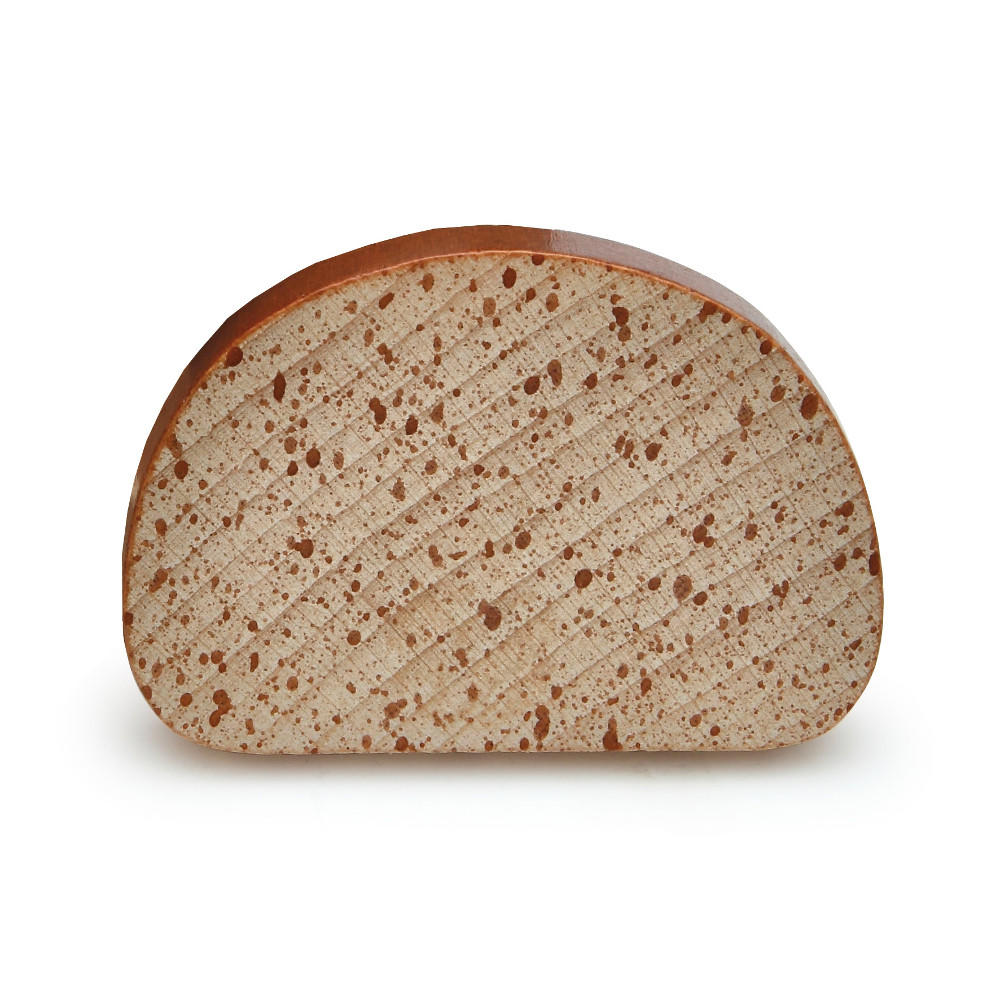slice of bread: (147, 282, 872, 767)
